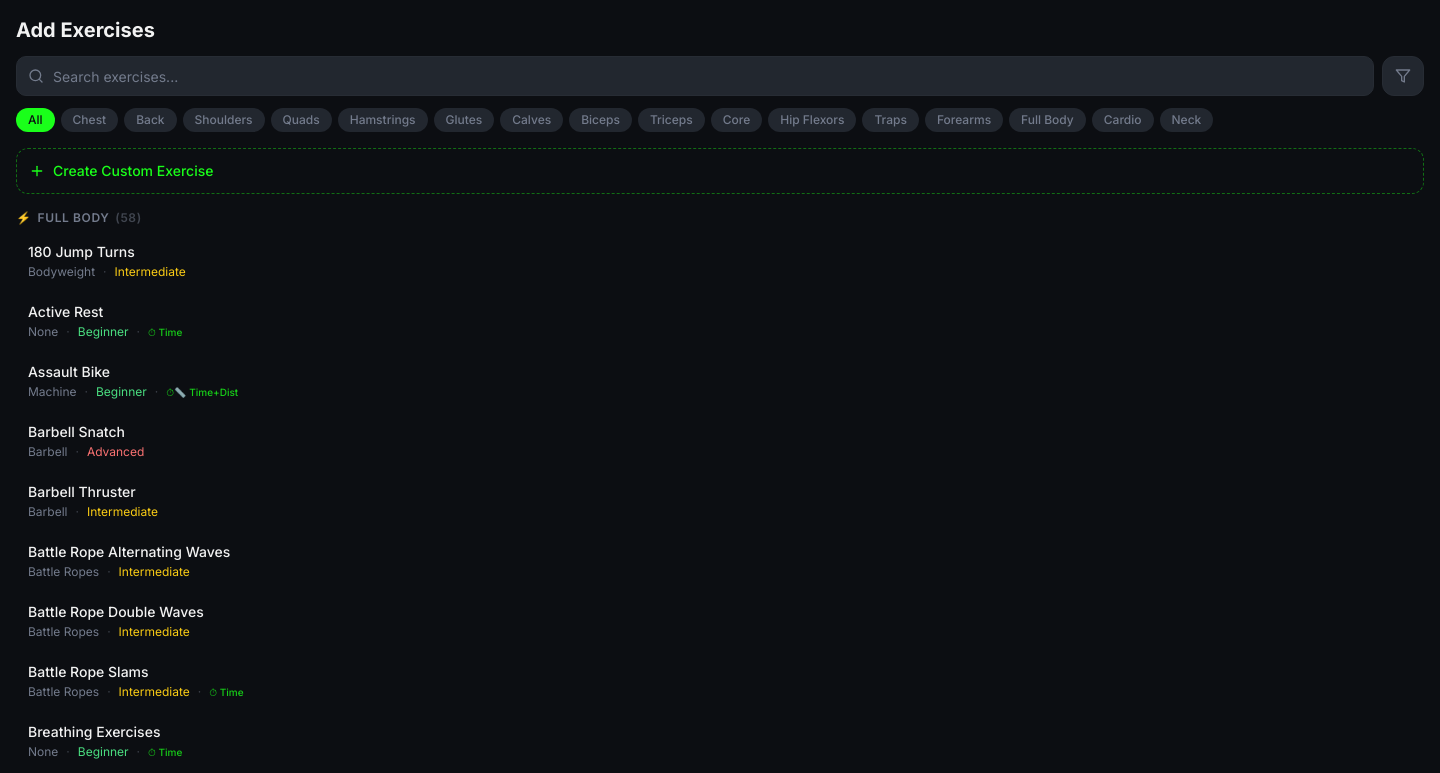
Test: ExerciseSelector result order › renders every ranked row without a React key clash
Step 1. Type "chest pass" into the field with placeholder "Search exercises..." → (695, 76), box 16,56 -> 1374,96
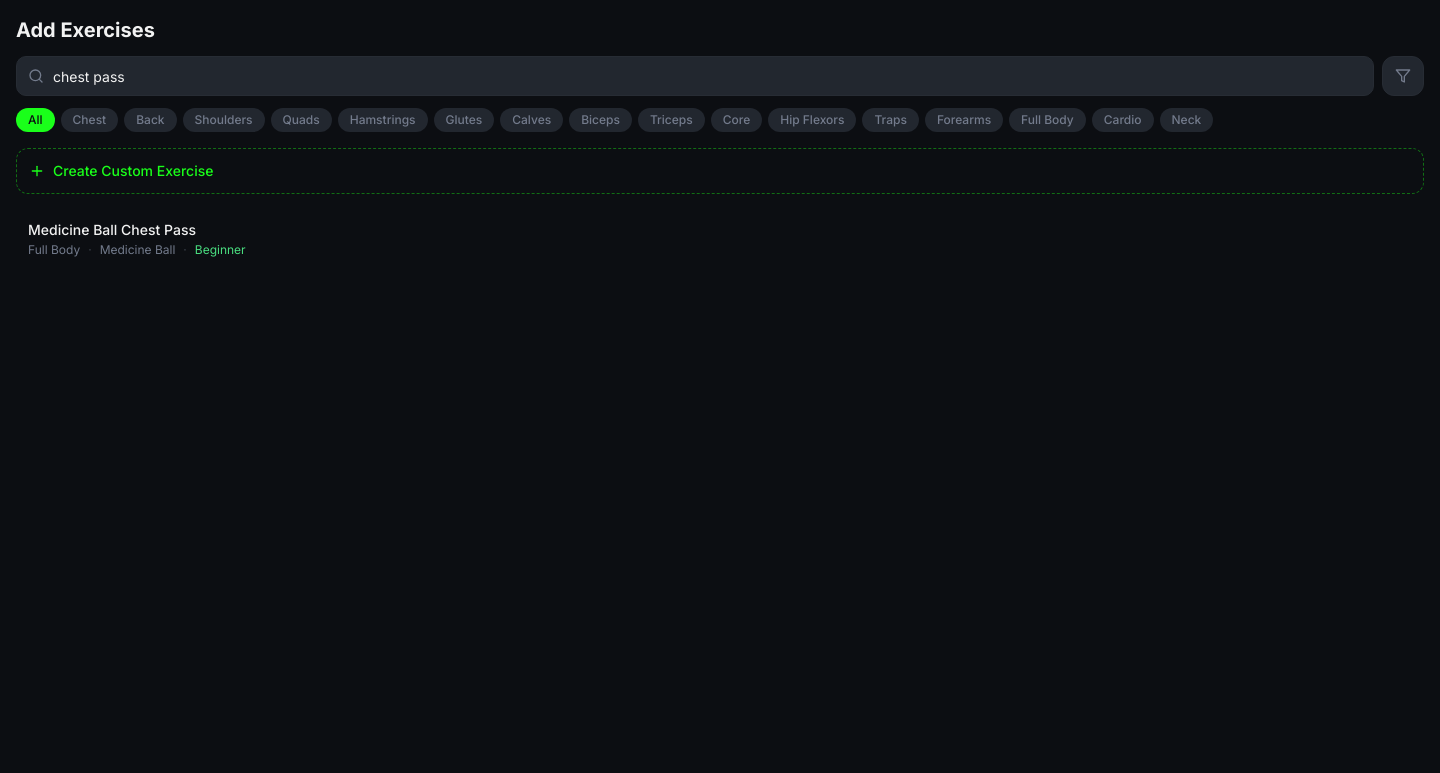
Check: the element with test id "exercise-results" is shown, box 16,210 -> 1424,268
